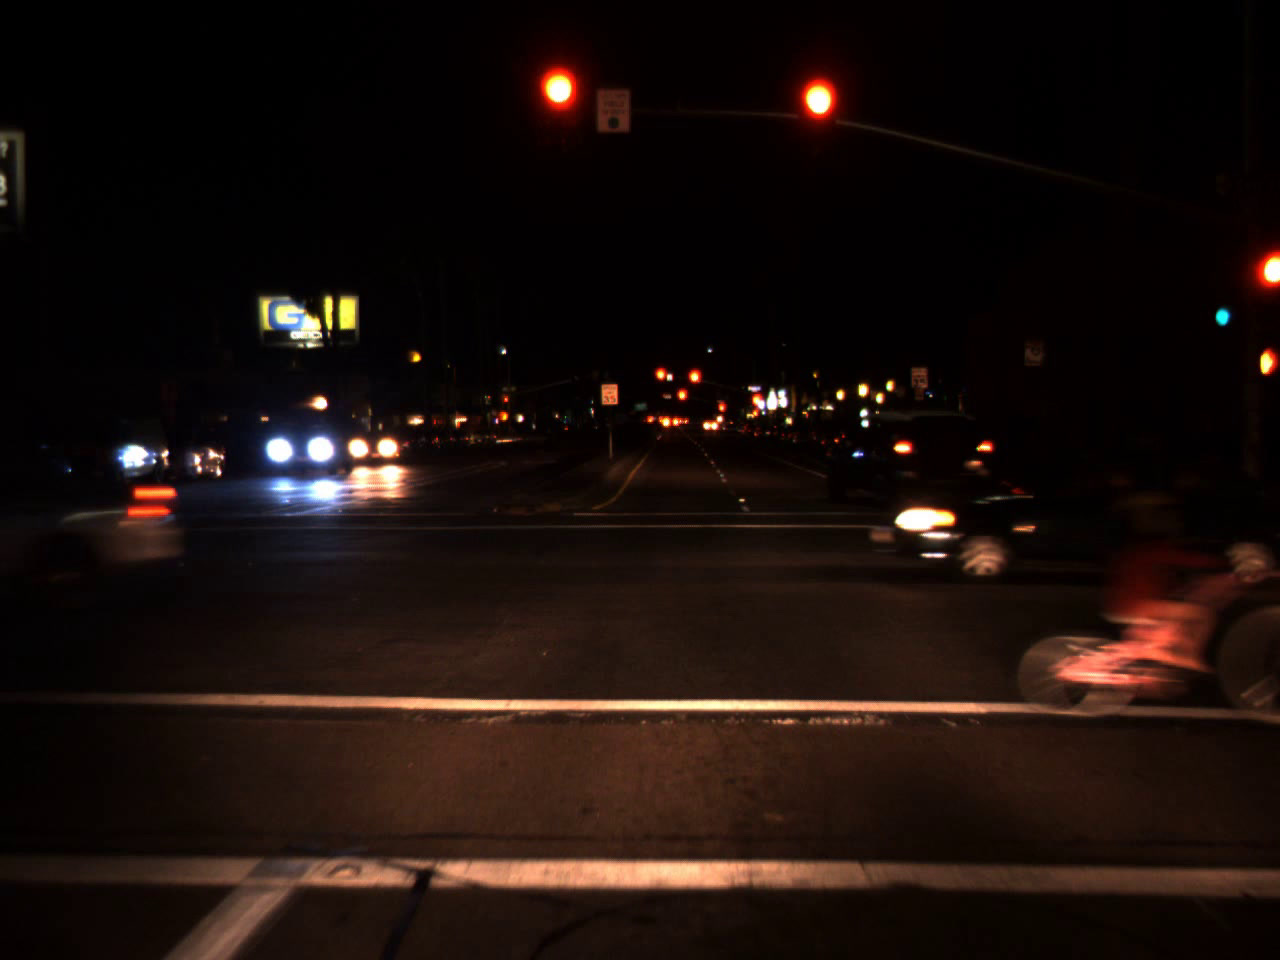stop: (539, 70, 578, 148), (800, 79, 836, 157), (1256, 253, 1280, 320), (653, 366, 671, 395), (686, 368, 702, 397), (748, 391, 763, 418), (675, 387, 688, 414), (717, 402, 726, 415), (503, 397, 509, 407)
